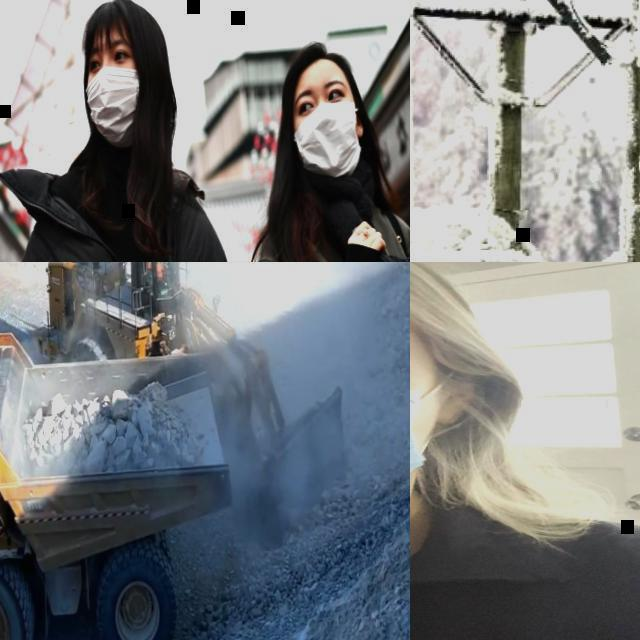machinery: (26, 262, 356, 548), (0, 326, 242, 640)
mask: (292, 98, 362, 181), (84, 67, 142, 144)
no_helmet: (86, 0, 177, 45), (282, 48, 352, 92)
no_vest: (410, 508, 640, 640), (52, 181, 237, 262)
person: (410, 262, 640, 640), (0, 0, 297, 262), (249, 35, 410, 262)
